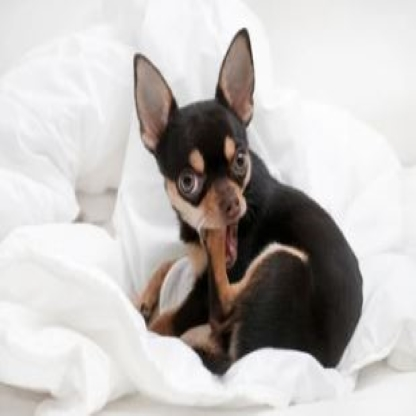chihuahua: (128, 26, 366, 368)
